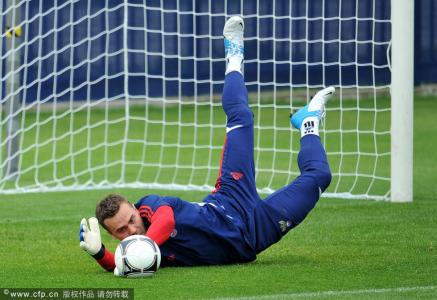fall: (71, 3, 357, 287)
